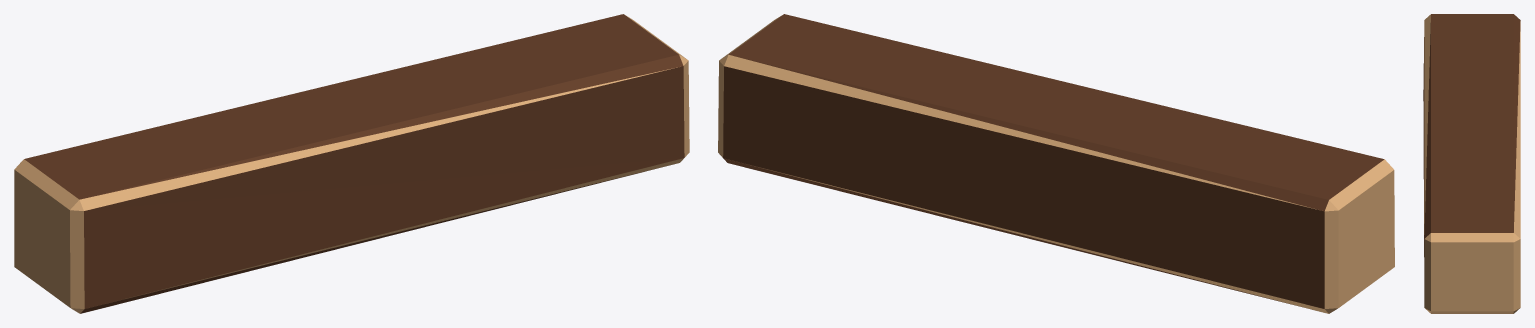
File: MCastle_PortculisMech_Frame_04.FBX
The picture shows the model from 3 angles, left to right: view 1: azimuth 30°, elevation 25°; view 2: azimuth 150°, elevation 25°; view 3: azimuth 270°, elevation 25°; orthographic projection. The views are drawn at different scales.
Parts seen in each view (by area): view 1: MCastle_PortculisMech_Frame_04_LOD0; view 2: MCastle_PortculisMech_Frame_04_LOD0; view 3: MCastle_PortculisMech_Frame_04_LOD0.
Part boxes in pixels (bbox=[...]): MCastle_PortculisMech_Frame_04_LOD0: bbox=[14, 14, 689, 313]; MCastle_PortculisMech_Frame_04_LOD0: bbox=[718, 14, 1394, 313]; MCastle_PortculisMech_Frame_04_LOD0: bbox=[1423, 14, 1520, 313].
Size of what is drawn, in the model's own units: 4.28 by 0.7515 by 0.7797.
